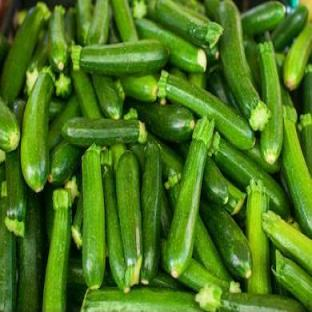Zucchini: (166, 117, 214, 278), (158, 71, 255, 149), (211, 134, 289, 218), (1, 3, 49, 104), (21, 70, 53, 191), (282, 106, 311, 237), (136, 20, 207, 73), (201, 203, 251, 278), (116, 152, 143, 286), (43, 189, 71, 311), (103, 162, 129, 292), (72, 40, 168, 75), (17, 191, 45, 311), (82, 144, 105, 289), (140, 143, 162, 284), (259, 41, 283, 164), (263, 212, 311, 273), (246, 179, 271, 293), (81, 288, 201, 311), (196, 286, 305, 311), (130, 102, 195, 142), (193, 215, 230, 280), (63, 118, 146, 146), (274, 251, 311, 310), (179, 258, 240, 292), (0, 182, 16, 310), (284, 23, 311, 89), (48, 95, 80, 149), (148, 134, 183, 182), (272, 5, 308, 51), (24, 32, 49, 95), (48, 141, 82, 184), (208, 66, 239, 112), (72, 71, 102, 118), (241, 2, 285, 34), (92, 75, 124, 118), (49, 6, 69, 71), (202, 158, 228, 205), (245, 141, 279, 173), (0, 99, 20, 152), (120, 75, 158, 101), (244, 38, 261, 89), (224, 178, 246, 215), (299, 113, 311, 173), (150, 270, 183, 290), (71, 194, 83, 249), (44, 184, 55, 243), (160, 184, 172, 238), (68, 256, 86, 290), (128, 143, 146, 177), (111, 143, 127, 171), (64, 8, 76, 45), (303, 64, 311, 113), (49, 98, 65, 122), (55, 74, 71, 98), (12, 100, 25, 125), (108, 20, 121, 44), (0, 34, 10, 65), (188, 72, 206, 89), (234, 206, 246, 229), (168, 68, 187, 80), (276, 52, 285, 74)
